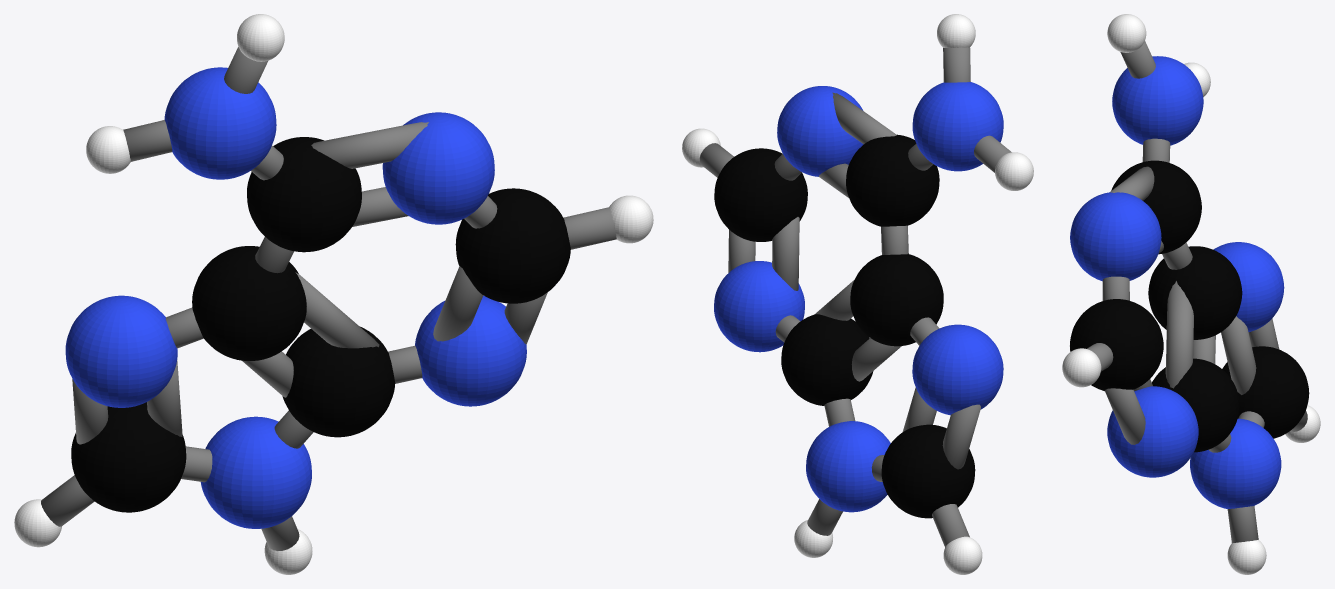
File: ADENINA.obj
3 views of the same model, side by side, from view 1: azimuth 30°, elevation 25°; view 2: azimuth 150°, elevation 25°; view 3: azimuth 270°, elevation 25° (orthographic). The views are drawn at different scales.
Parts seen in each view (by area): view 1: Carbon_ball_Sphere.002, Nitrogen_ball_Sphere, Hydrogen_ball_Sphere.001, Stick_Cylinder.014_Cylinder.014, Stick_Cylinder.017_Cylinder.017, Stick_Cylinder.001_Cylinder.001, Stick_Cylinder.005_Cylinder.005, Stick_Cylinder.011_Cylinder.011, Stick_Cylinder.002_Cylinder.002, Stick_Cylinder.003_Cylinder.003, Stick_Cylinder.016_Cylinder.016, Stick_Cylinder.019_Cylinder.019 (+9 smaller); view 2: Carbon_ball_Sphere.002, Nitrogen_ball_Sphere, Hydrogen_ball_Sphere.001, Stick_Cylinder.016_Cylinder.016, Stick_Cylinder.001_Cylinder.001, Stick_Cylinder.014_Cylinder.014, Stick_Cylinder.009_Cylinder.009, Stick_Cylinder.011_Cylinder.011, Stick_Cylinder.008_Cylinder.008, Stick_Cylinder.007_Cylinder.007, Stick_Cylinder.018_Cylinder.018, Stick_Cylinder.010_Cylinder.010 (+7 smaller); view 3: Nitrogen_ball_Sphere, Carbon_ball_Sphere.002, Hydrogen_ball_Sphere.001, Stick_Cylinder.017_Cylinder.017, Stick_Cylinder.003_Cylinder.003, Stick_Cylinder.018_Cylinder.018, Stick_Cylinder.007_Cylinder.007, Stick_Cylinder.014_Cylinder.014, Stick_Cylinder.008_Cylinder.008, Stick_Cylinder.006_Cylinder.006, Stick_Cylinder.015_Cylinder.015, Stick_Cylinder.016_Cylinder.016 (+3 smaller).
Boxes of the visible parts, x1,y1,x2,y2 form: Carbon_ball_Sphere.002: (71,137,570,512); Nitrogen_ball_Sphere: (65,67,526,528); Hydrogen_ball_Sphere.001: (14,14,653,574); Stick_Cylinder.014_Cylinder.014: (311,122,428,168); Stick_Cylinder.017_Cylinder.017: (295,272,379,348); Stick_Cylinder.001_Cylinder.001: (433,266,483,341); Stick_Cylinder.005_Cylinder.005: (563,207,616,249); Stick_Cylinder.011_Cylinder.011: (41,475,94,526); Stick_Cylinder.002_Cylinder.002: (123,120,172,161); Stick_Cylinder.003_Cylinder.003: (147,360,182,436); Stick_Cylinder.016_Cylinder.016: (72,379,108,444); Stick_Cylinder.019_Cylinder.019: (352,187,408,226); Carbon_ball_Sphere.002: (714,134,975,518); Nitrogen_ball_Sphere: (714,82,1003,512); Hydrogen_ball_Sphere.001: (682,14,1033,574); Stick_Cylinder.016_Cylinder.016: (942,404,980,469); Stick_Cylinder.001_Cylinder.001: (772,217,799,290); Stick_Cylinder.014_Cylinder.014: (832,92,896,144); Stick_Cylinder.009_Cylinder.009: (851,338,901,381); Stick_Cylinder.011_Cylinder.011: (932,504,969,547); Stick_Cylinder.008_Cylinder.008: (943,47,970,82); Stick_Cylinder.007_Cylinder.007: (807,499,842,535); Stick_Cylinder.018_Cylinder.018: (728,229,755,272); Stick_Cylinder.010_Cylinder.010: (881,225,908,254); Nitrogen_ball_Sphere: (1070,56,1284,509); Carbon_ball_Sphere.002: (1070,160,1309,452); Hydrogen_ball_Sphere.001: (1062,14,1320,574); Stick_Cylinder.017_Cylinder.017: (1165,281,1193,388); Stick_Cylinder.003_Cylinder.003: (1221,316,1256,394); Stick_Cylinder.018_Cylinder.018: (1105,388,1145,444); Stick_Cylinder.007_Cylinder.007: (1227,506,1258,543); Stick_Cylinder.014_Cylinder.014: (1110,166,1154,200); Stick_Cylinder.008_Cylinder.008: (1120,41,1155,78); Stick_Cylinder.006_Cylinder.006: (1102,276,1129,300); Stick_Cylinder.015_Cylinder.015: (1142,138,1170,162); Stick_Cylinder.016_Cylinder.016: (1248,318,1279,349).
Size of the model in its own units: 6.91 by 8.42 by 3.81.
